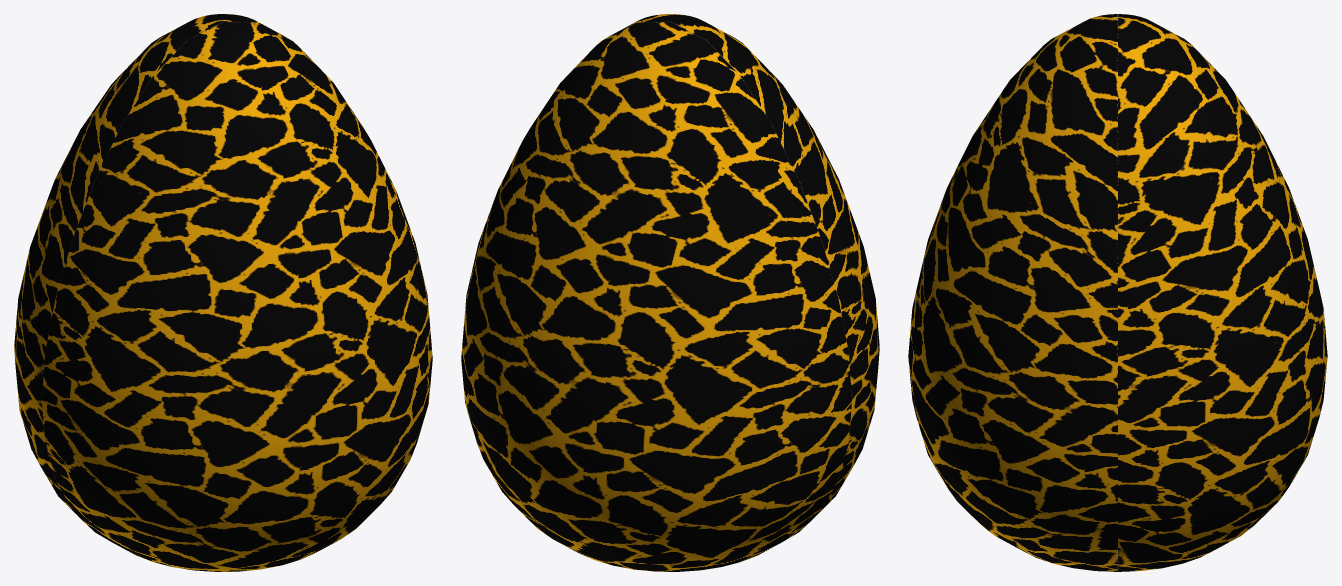
File: Egg_Lava.FBX
3 views of the same model, side by side, from view 1: azimuth 30°, elevation 25°; view 2: azimuth 150°, elevation 25°; view 3: azimuth 270°, elevation 25° (orthographic).
Parts seen in each view (by area): view 1: Sphere006; view 2: Sphere006; view 3: Sphere006.
Part boxes in pixels (<box>): Sphere006: <box>14,14,432,571</box>; Sphere006: <box>461,14,879,571</box>; Sphere006: <box>908,14,1327,571</box>.
Bounding box in the file's own units: 56.03 × 56.03 × 77.86.
1 material, 1 textured.
